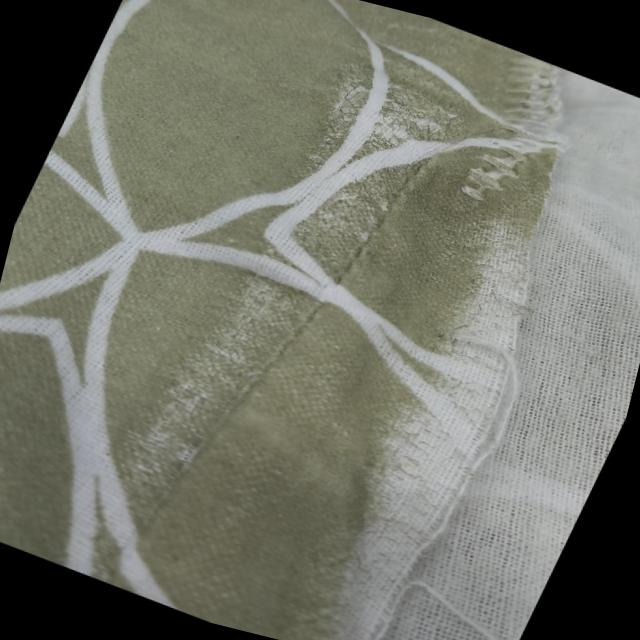selvet: (106, 39, 474, 578), (315, 191, 587, 640)
